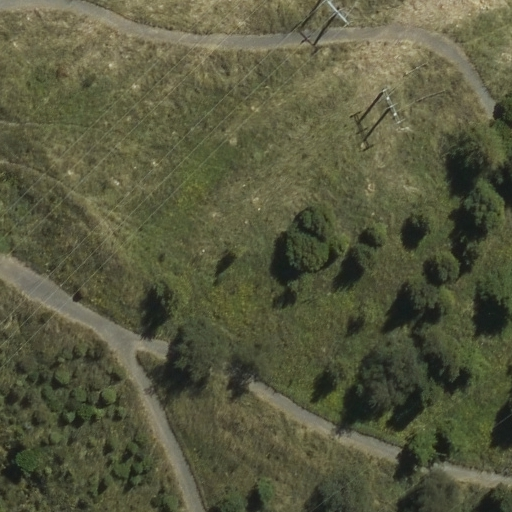DT: (373, 82, 409, 130), (311, 1, 353, 30)
